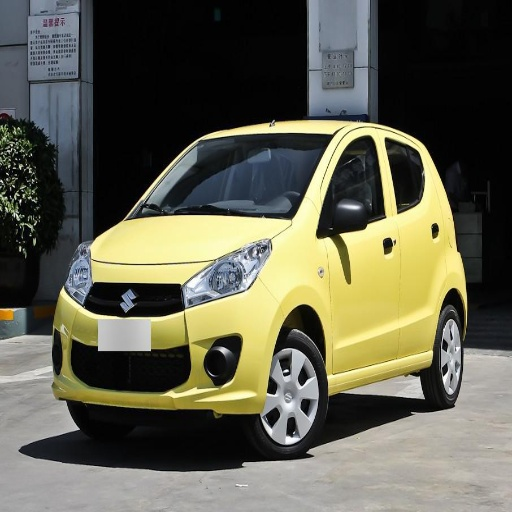front_bumper: (58, 259, 283, 413)
front_glass: (131, 137, 332, 218)
front_left_door: (324, 131, 400, 373)
